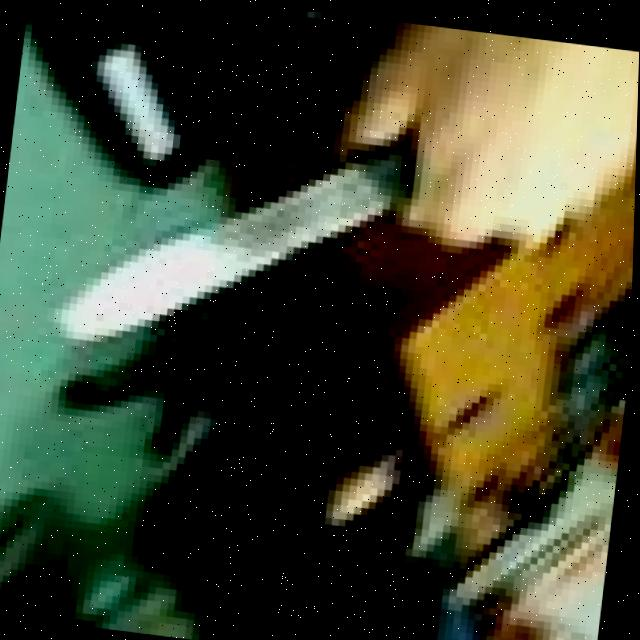knife: (48, 105, 415, 381)
